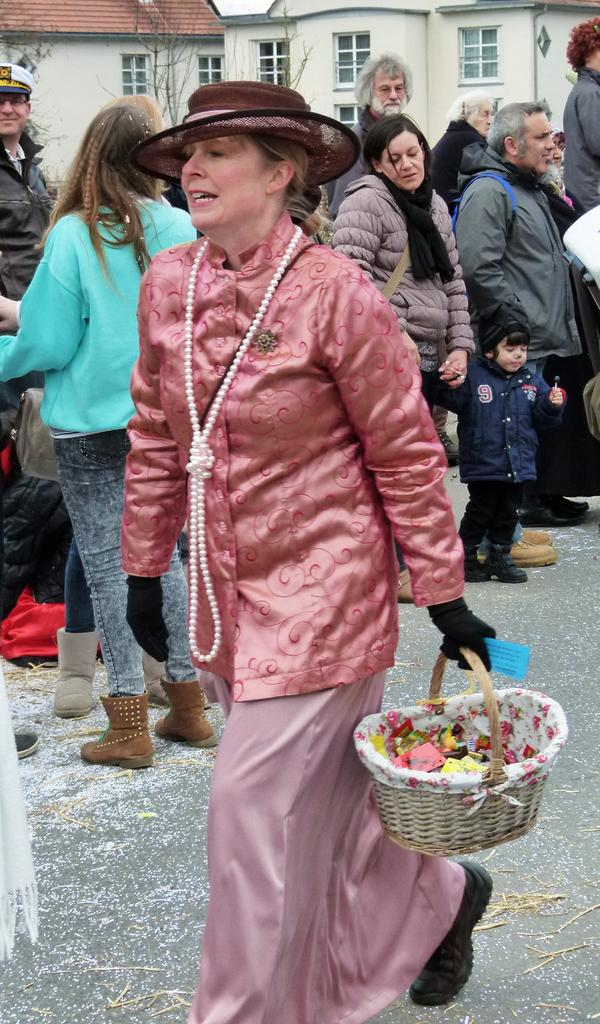Hat: (133, 82, 364, 190), (0, 55, 32, 86)
